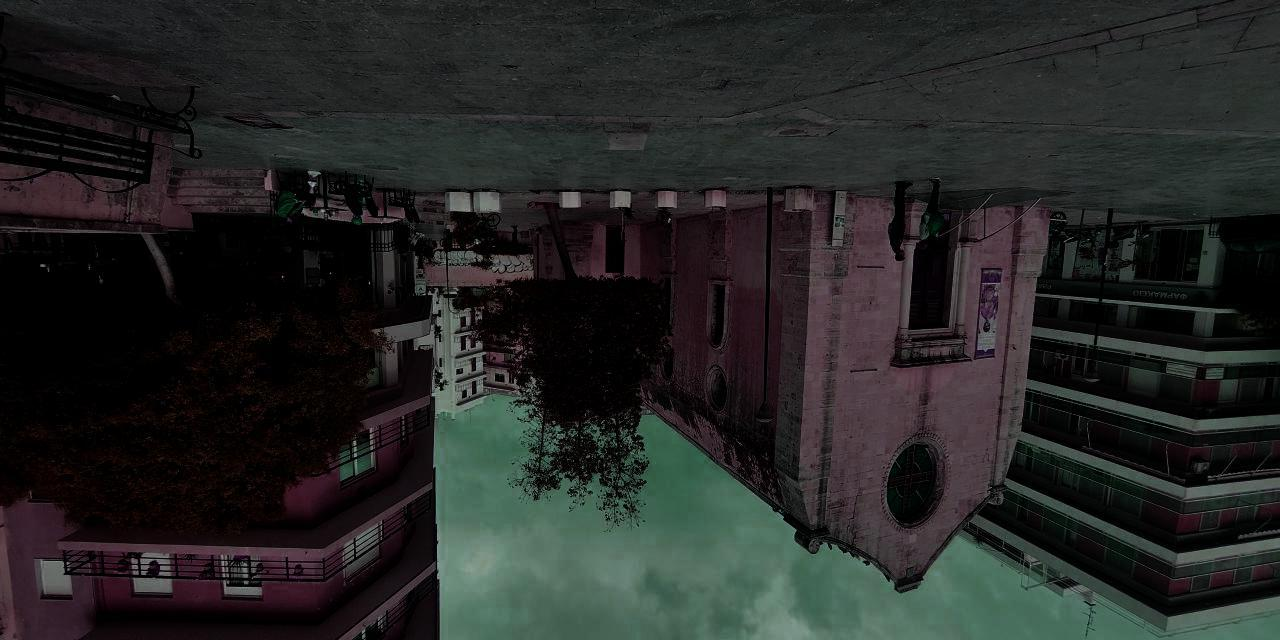Agia Aikaterini: (629, 179, 1066, 599)
